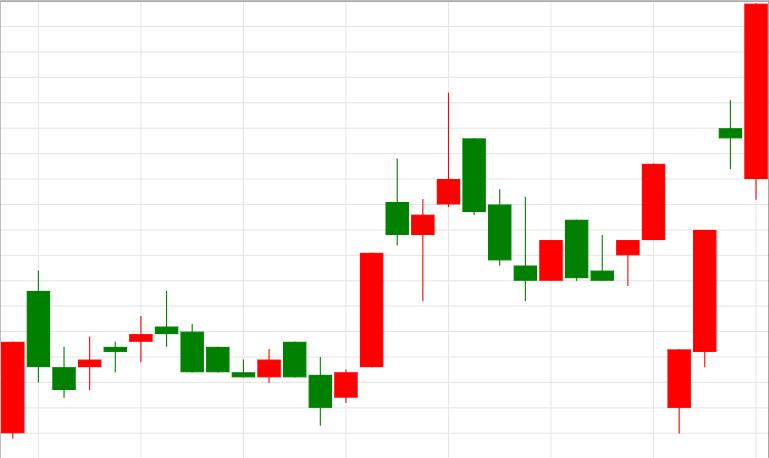shooting_star_fall: (309, 93, 460, 425), (309, 158, 409, 426)
